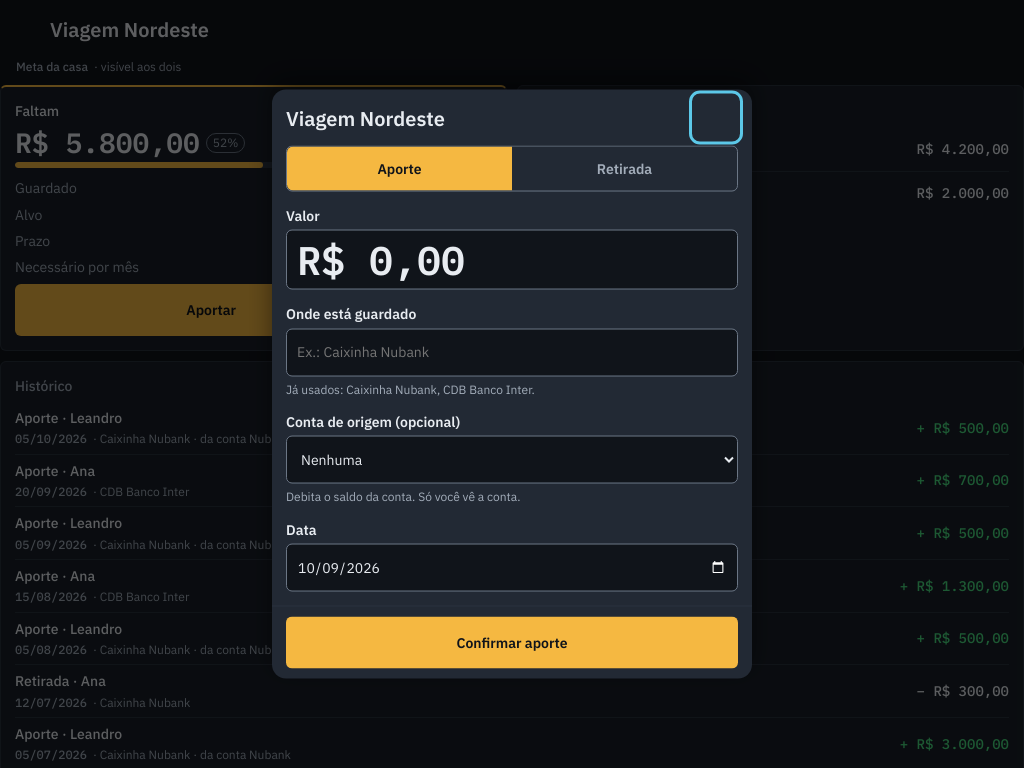
Test case: T13 aporte › local vazio mostra erro e põe o foco no campo, sem enviar
Type "50000" into the field labelled "Valor" at x=512, y=260, box [286, 230, 738, 290]
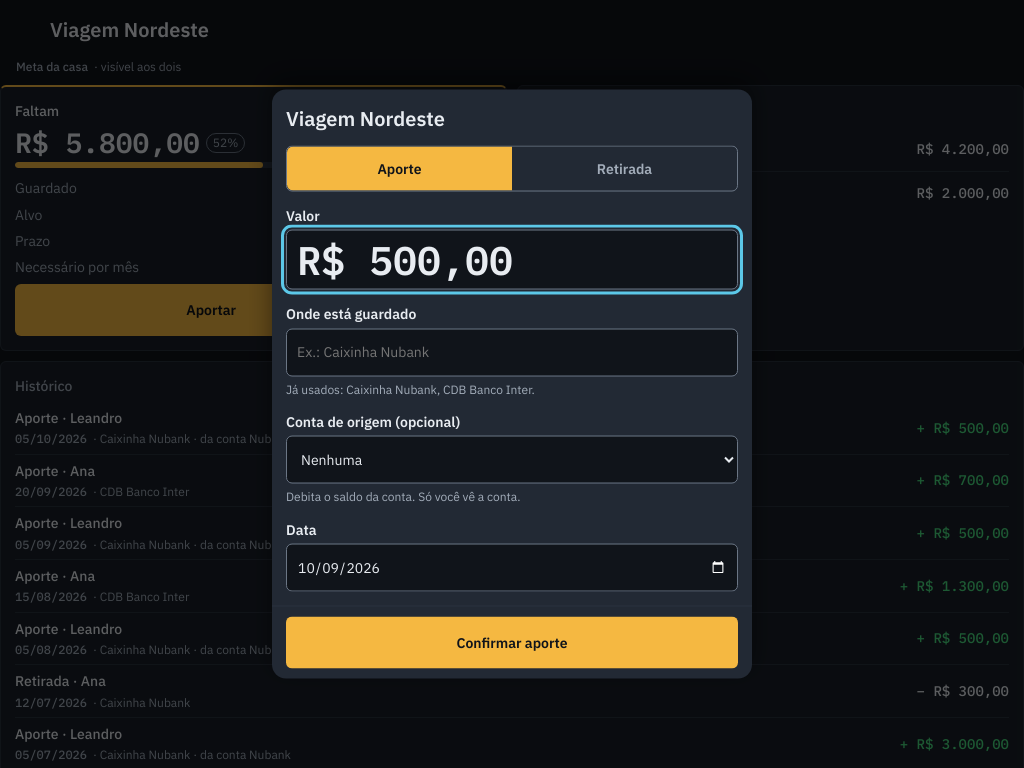
Click the button "Confirmar aporte" at x=512, y=642, box [286, 616, 738, 668]
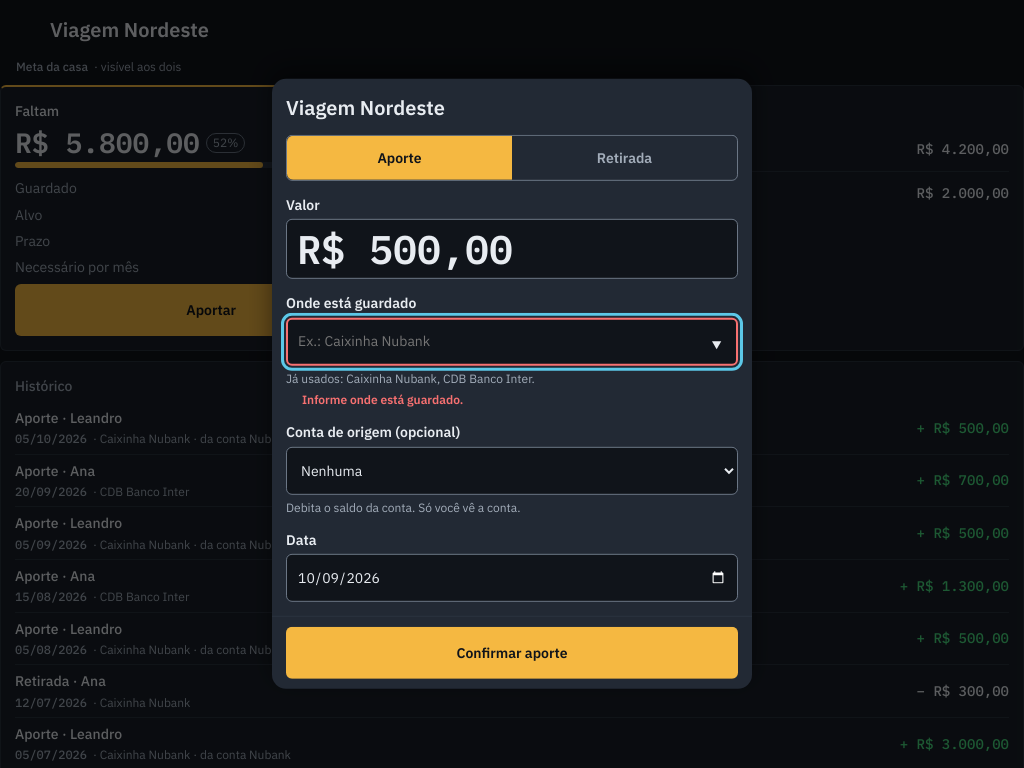
Expected: the text "Informe onde está guardado." is shown, [286, 392, 463, 407]
